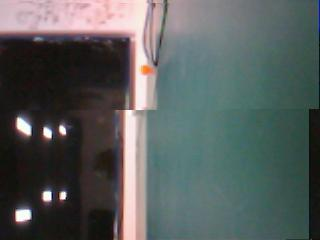oball: (140, 65, 149, 75)
